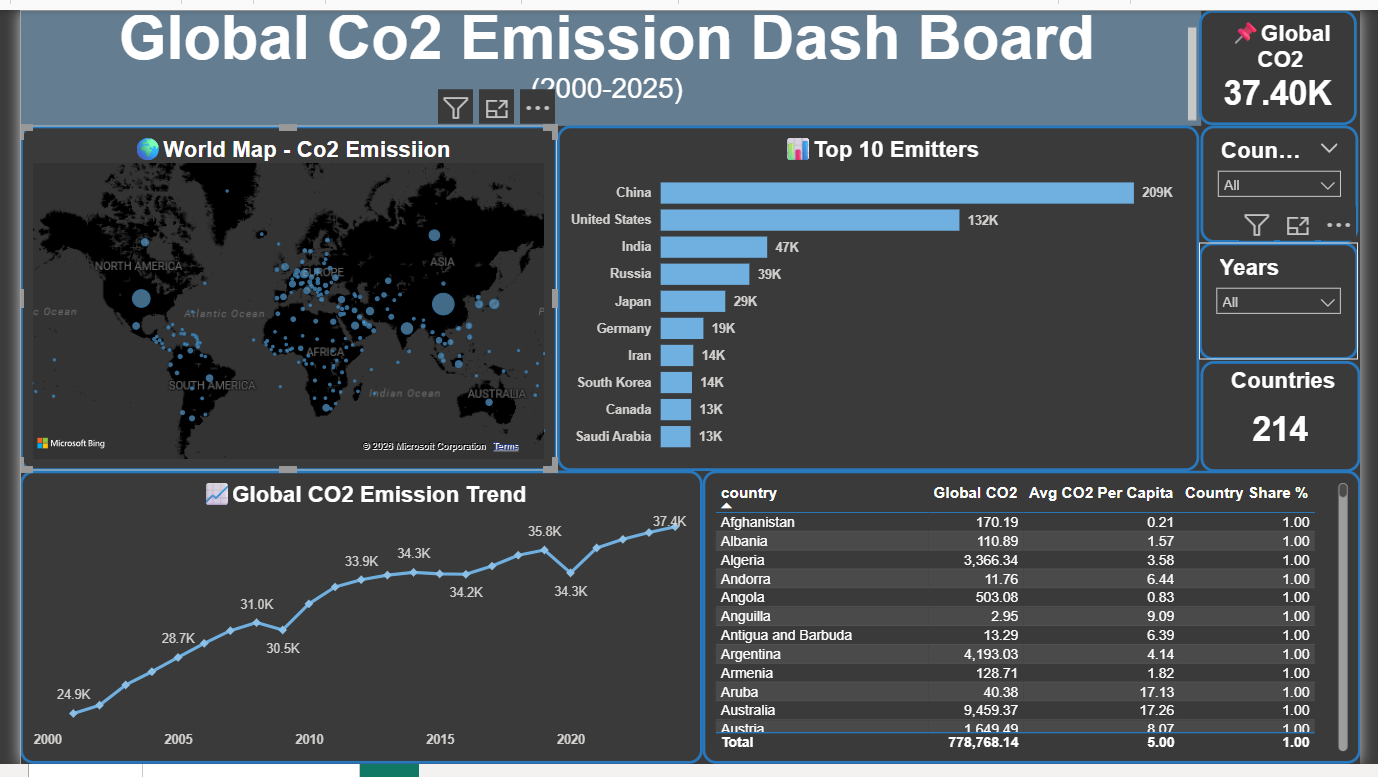

This screenshot's page, from the dashboard's own definition file:
{"tool":"powerbi","page":{"name":"Duplicate of Page 1","canvas":[1280,720],"ordinal":1},"visuals":[{"type":"kpi","title":"📌Global CO2 ","fields":{"Indicator":["Facts_Table.Global CO2"],"TrendLine":["Facts_Table.year"]},"box":[1126.7,110,153.3,123.3],"z":0},{"type":"lineChart","title":"📈Global CO2 Emission Trend","fields":{"Category":["Dim_Year.year"],"Y":["Facts_Table.Global CO2"]},"box":[0,440,651.7,280],"z":1000,"group":"g1"},{"type":"barChart","title":"📊Top 10 Emitters","fields":{"Category":["Facts_Table.country"],"Y":["Facts_Table.Global CO2"]},"box":[513.3,110,613.3,330],"z":2000,"group":"g1"},{"type":"map","title":"🌍World Map - Co2 Emissiion ","fields":{"Category":["Dim_Country.iso_code"],"Size":["Facts_Table.Global CO2"]},"box":[0,110,513.3,330],"z":3000,"group":"g1"},{"type":"tableEx","fields":{"Values":["Facts_Table.country","Facts_Table.Global CO2","Facts_Table.Avg CO2 Per Capita","Facts_Table.Country Share %"]},"box":[651.7,440,628.3,280],"z":4000},{"type":"slicer","fields":{"Values":["Dim_Year.year"]},"box":[1126.7,233.3,153.3,111.7],"z":5000,"group":"g1"},{"type":"kpi","title":"Countries","fields":{"TrendLine":["Facts_Table.year"],"Indicator":["CountNonNull(Facts_Table.country)"]},"box":[1126.7,345,153.3,95],"z":6000,"group":"g1"},{"type":"textbox","box":[0,0,1280,108.3],"z":7000,"group":"g1"},{"type":"group","id":"g1","title":"Group 1","box":[0,0,1280,720],"z":7001}]}

Visuals, with their boxes on the page's 1280x720 design canvas (x1, y1, x2, y2). These are canvas units, not pixel positions in the 1378x777 screenshot, which may show the page scaled, cropped or inside an application window:
"📌Global CO2 " kpi: rect(1127, 110, 1280, 233)
"📈Global CO2 Emission Trend" lineChart: rect(0, 440, 652, 720)
"📊Top 10 Emitters" barChart: rect(513, 110, 1127, 440)
"🌍World Map - Co2 Emissiion " map: rect(0, 110, 513, 440)
tableEx - Facts_Table.country x Facts_Table.Global CO2: rect(652, 440, 1280, 720)
slicer - Dim_Year.year: rect(1127, 233, 1280, 345)
"Countries" kpi: rect(1127, 345, 1280, 440)
textbox: rect(0, 0, 1280, 108)
"Group 1" group: rect(0, 0, 1280, 720)
